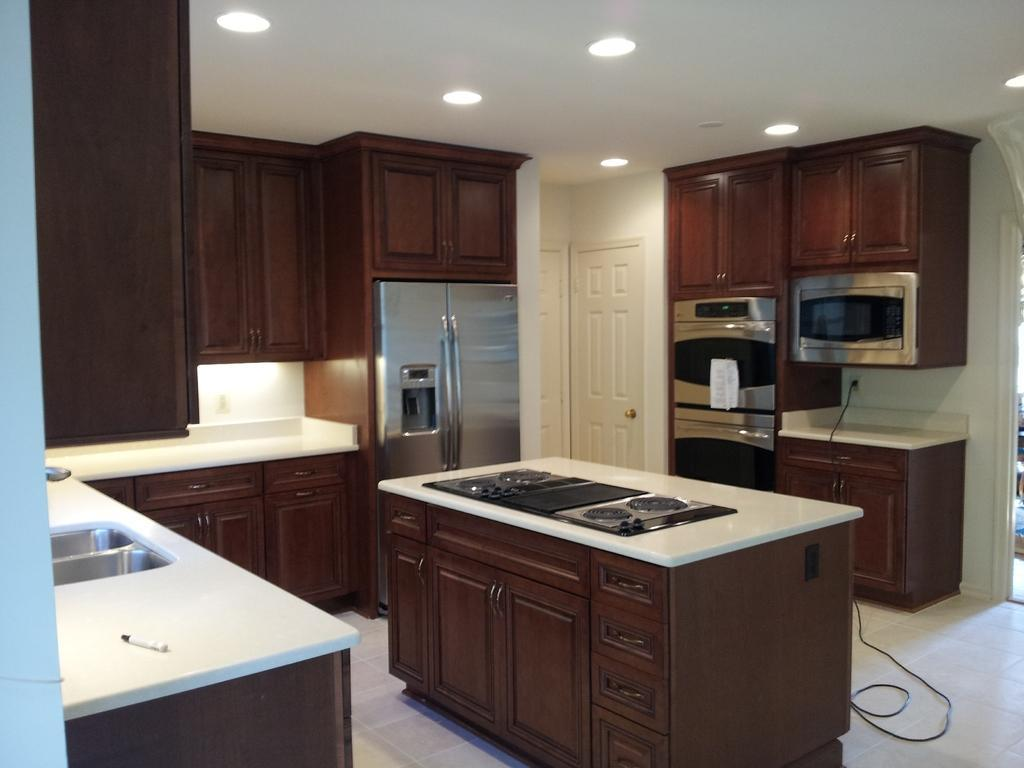door: (570, 251, 642, 466)
handle: (622, 412, 640, 426)
